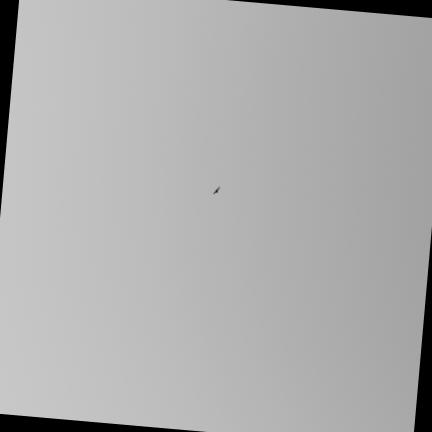Shahed: (213, 187, 219, 194)
